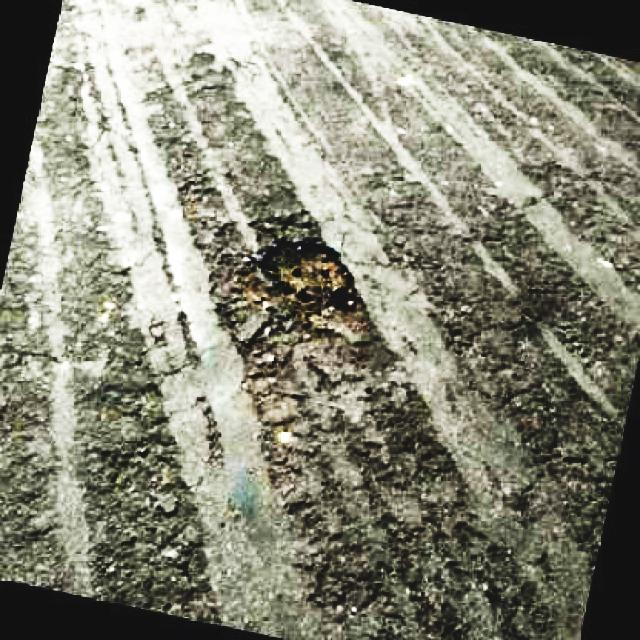pothole: (249, 229, 363, 317)
